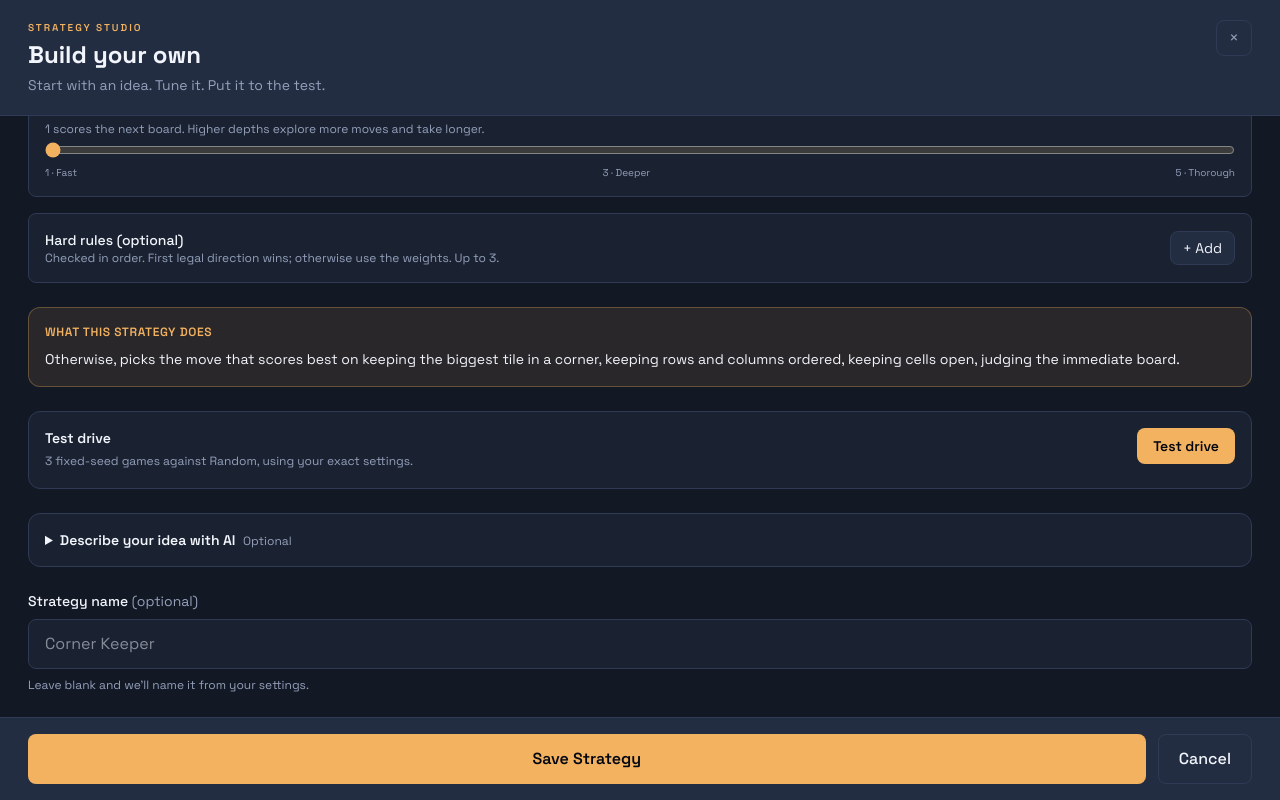
CustomStrategyBuilder › surfaces worker failure and permits a retry
(page scrolled)
Click the button "Test drive": (1186, 446) [1137, 428, 1235, 464]
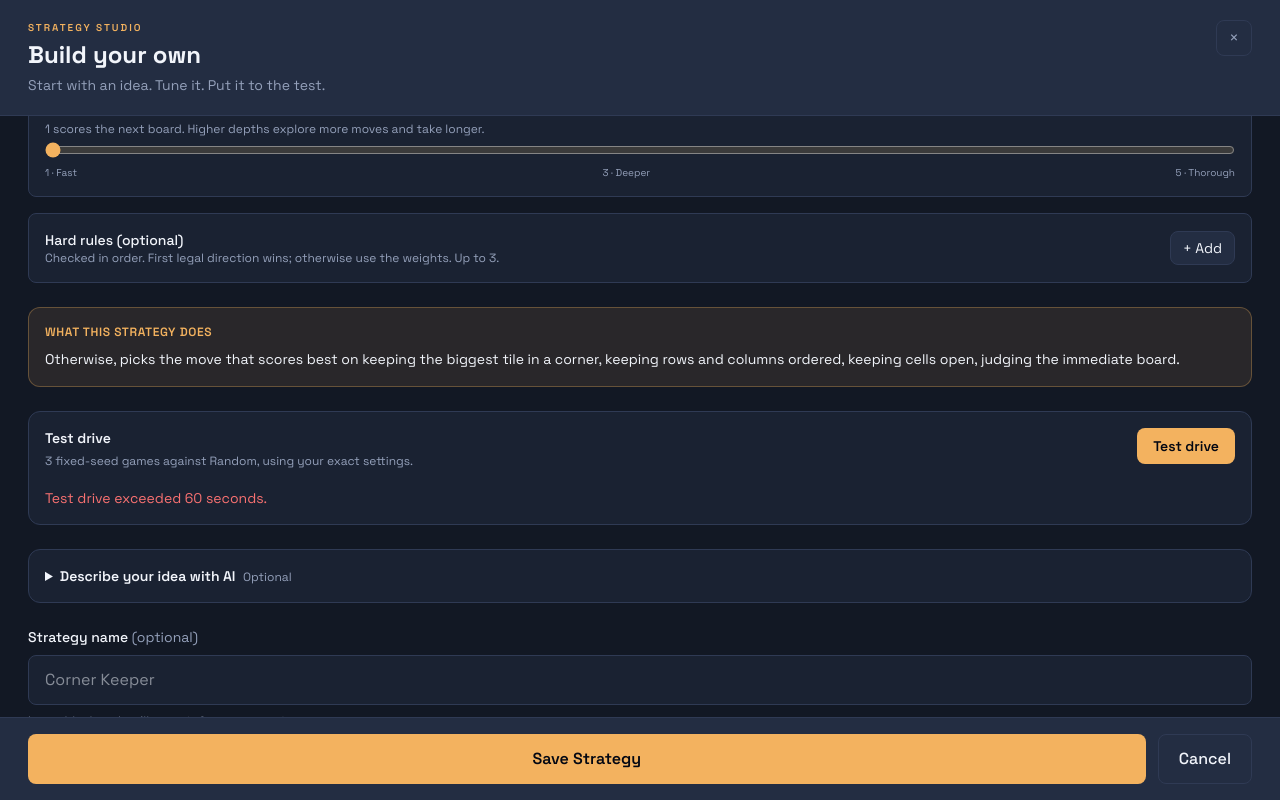
Check: the message reads "Test drive exceeded 60 seconds.", box [45, 489, 267, 507]
